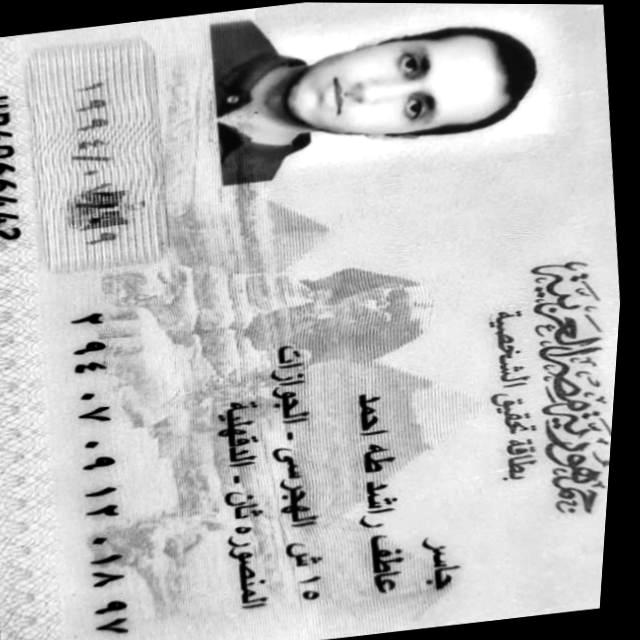id_card: (0, 0, 618, 639)
